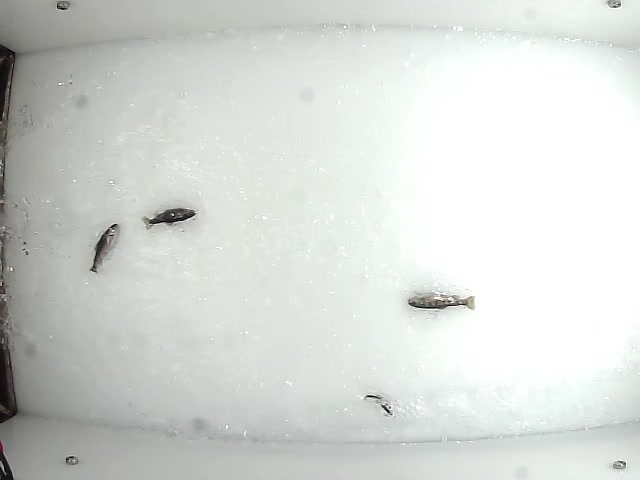fish: (87, 221, 120, 276), (405, 287, 476, 312), (139, 204, 196, 231), (362, 393, 396, 417)
